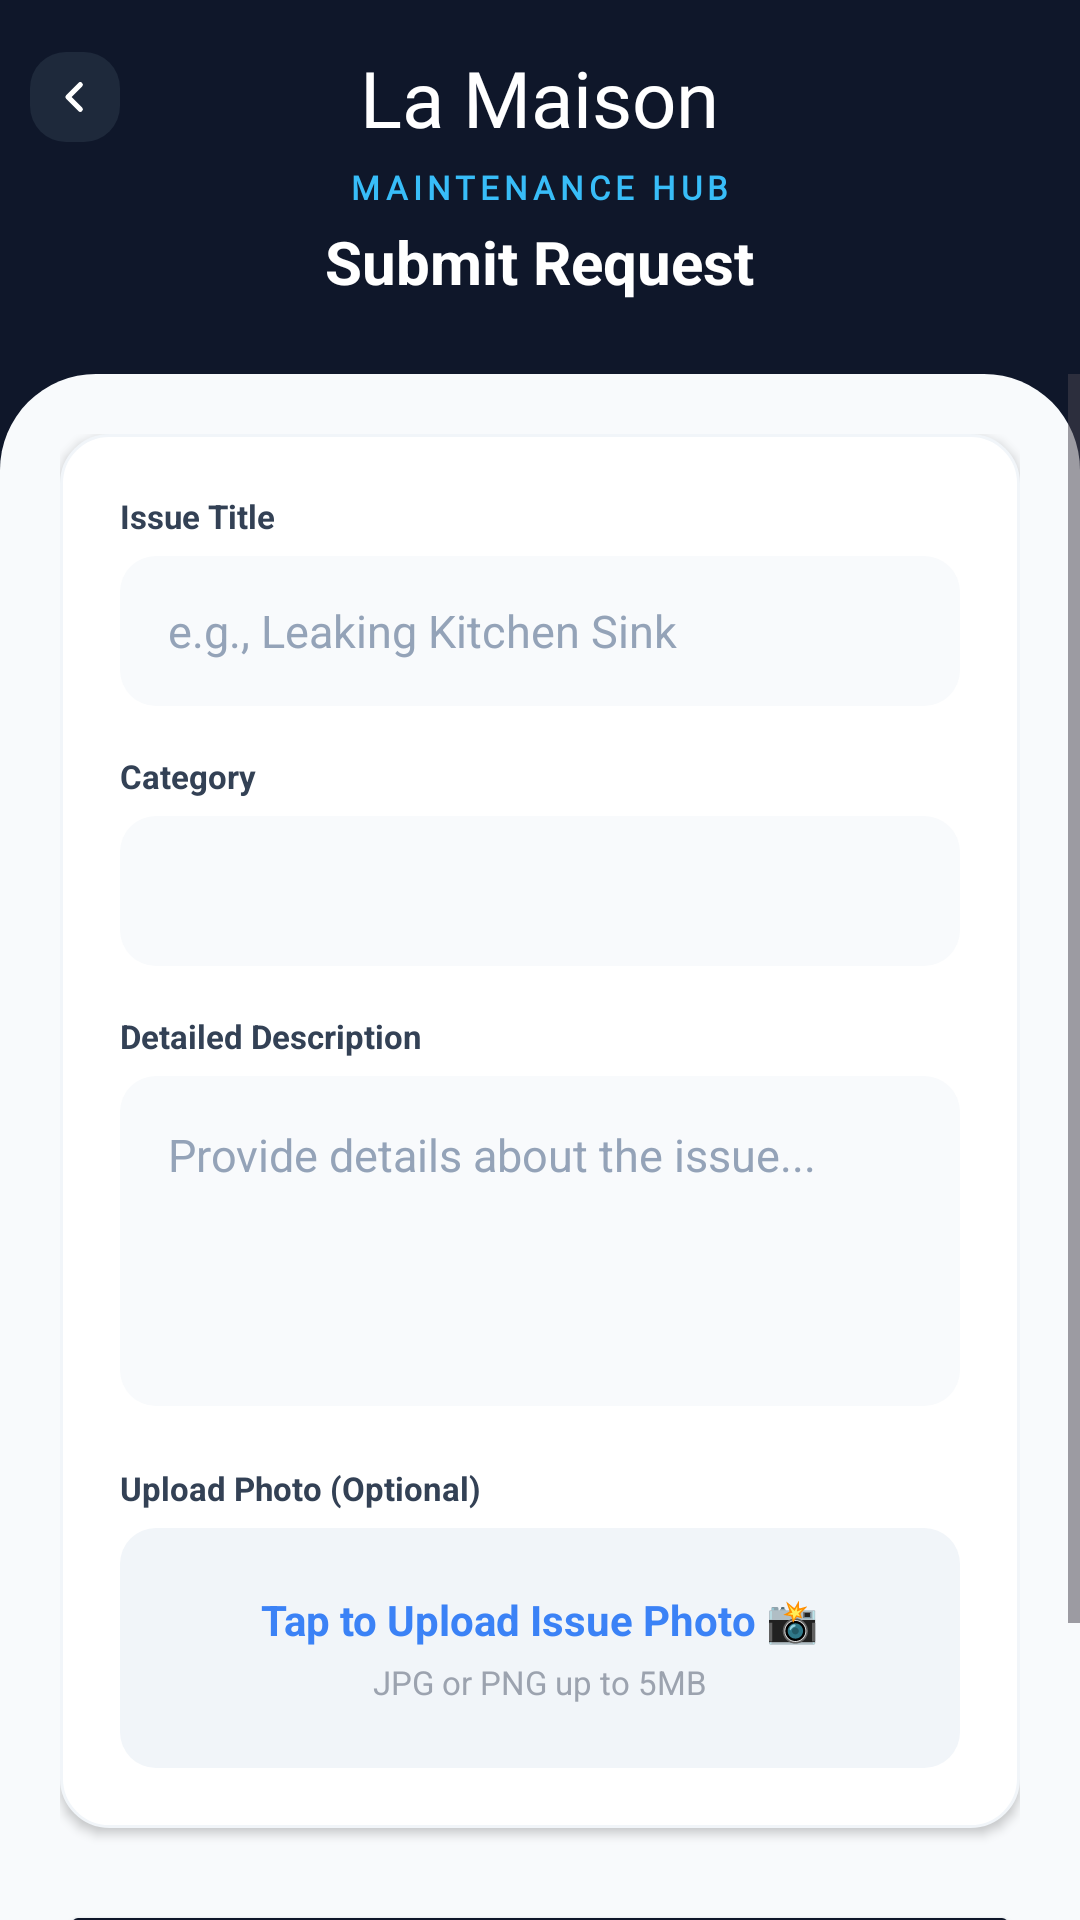

Point at icon controls on the screen. Image size 1080x1920, points as [x,y].
chevron left: [75,97]
